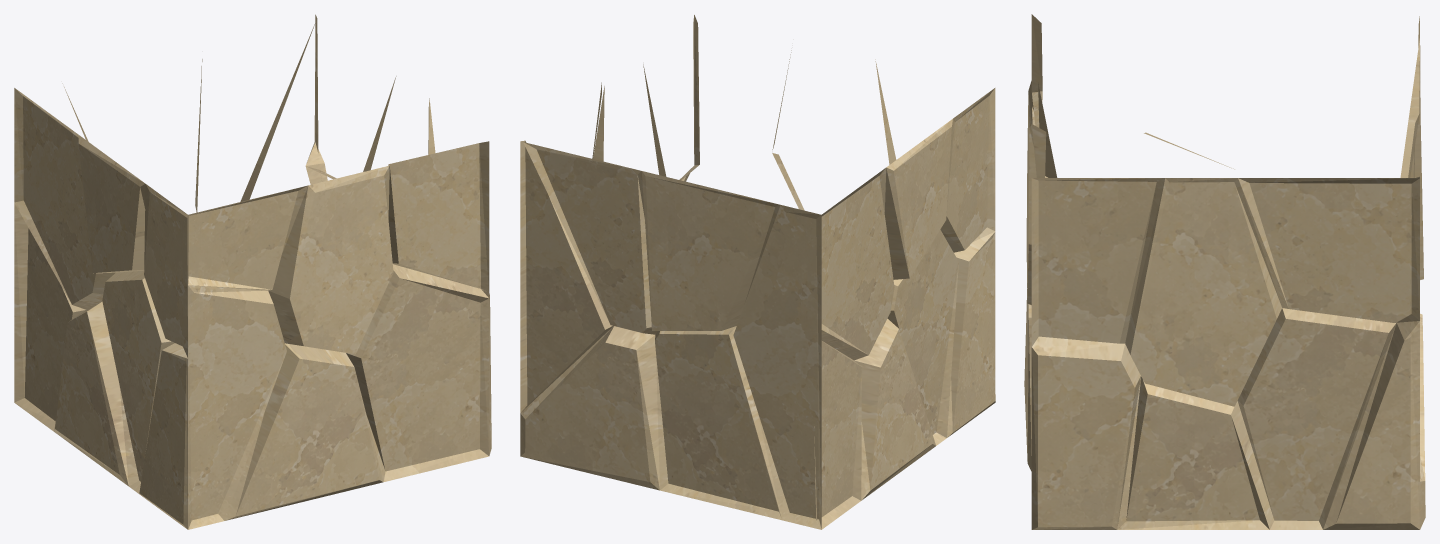
The model's file is ground_rock_06.gltf.
3 renders of one model, left to right at view 1: azimuth 30°, elevation 25°; view 2: azimuth 150°, elevation 25°; view 3: azimuth 270°, elevation 25°, orthographic. The views are drawn at different scales.
Parts seen in each view (by area): view 1: ground_rock_06; view 2: ground_rock_06; view 3: ground_rock_06.
Boxes of the visible parts, <box> form: ground_rock_06: <box>14,14,491,529</box>; ground_rock_06: <box>520,15,995,529</box>; ground_rock_06: <box>1024,14,1425,529</box>.
Bounding box in the file's own units: 1.03 × 1 × 1.03.
27 materials, 27 textured.
